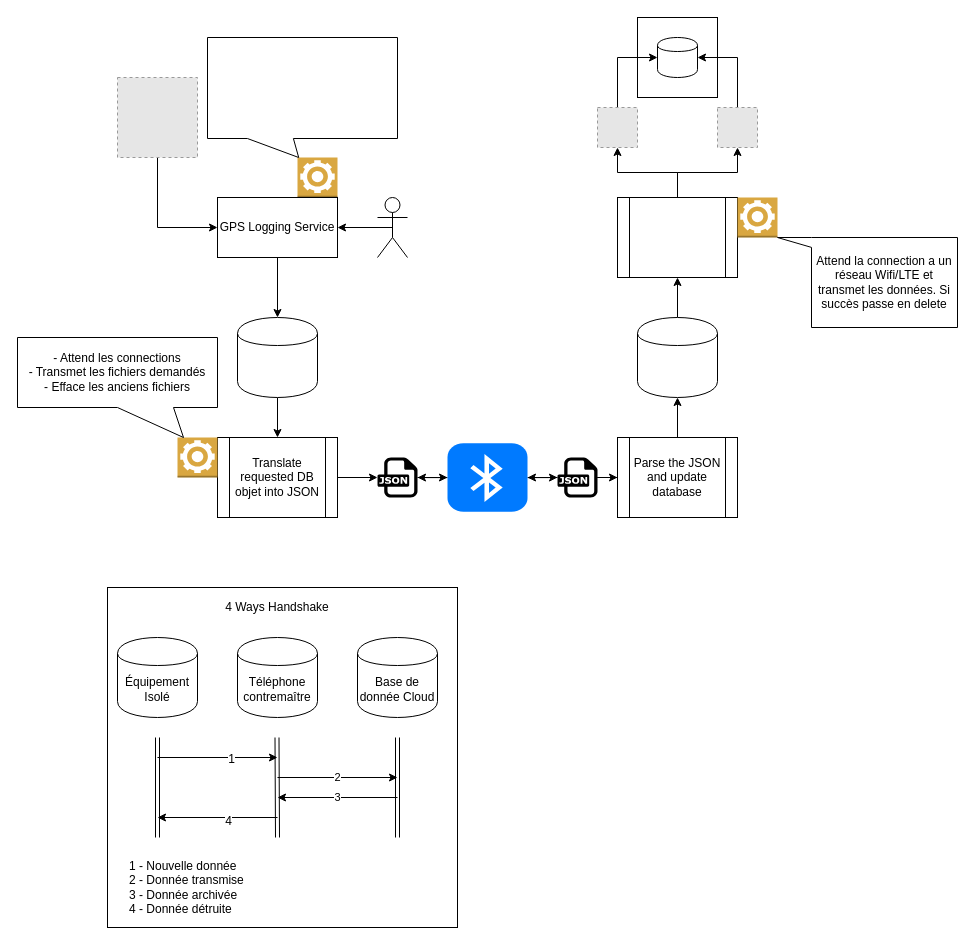
The diagram is 975 pixels wide and 945 high, and some of its shapes have lost their labels. Grey dashed boxes stand in for pictures. The shapes that lost their labels are listed below. From the top down, each one's centre as x and y in pixels, then its label:
At (302,97): "- Mise en marche et arrêt - Intervalle de temps - Angle - Distance max".
At (392,227): "Device ID".
At (677,237): "Send file to archive".
